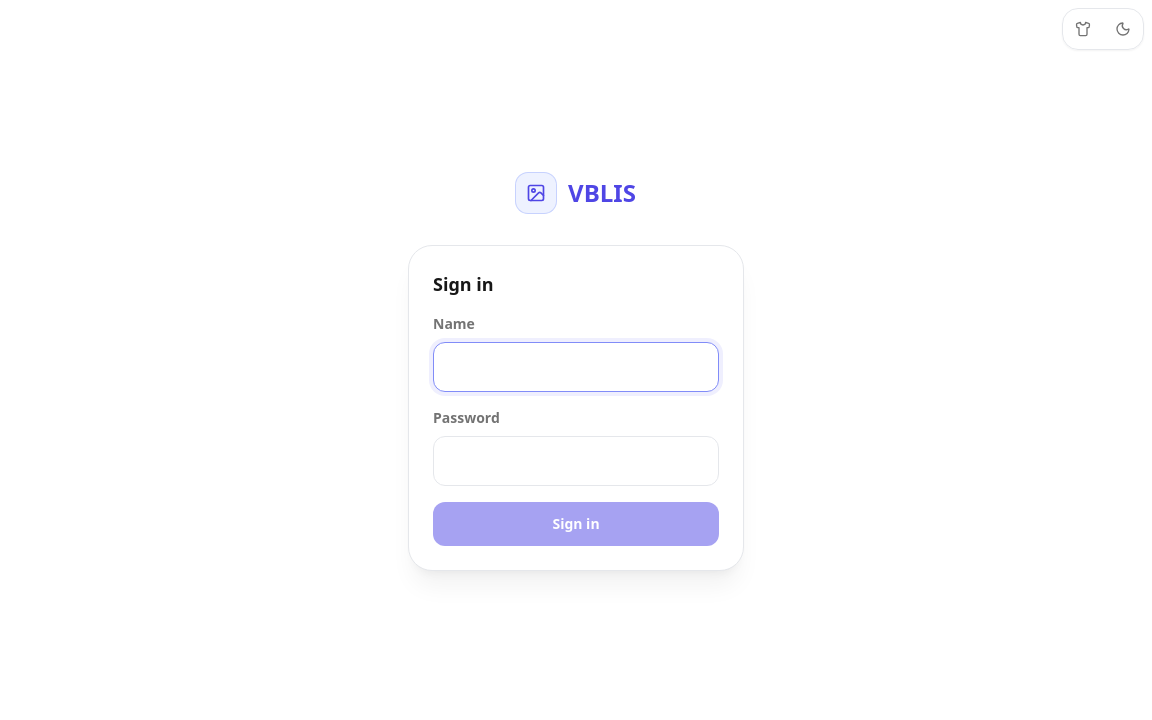
Test: the session screens › switch the page to dark and to the terminal style from the control
Later steps or results of the test are not shown.
Click the button named "Switch to Dark Mode" at (1123, 29), box [1103,9,1143,49]
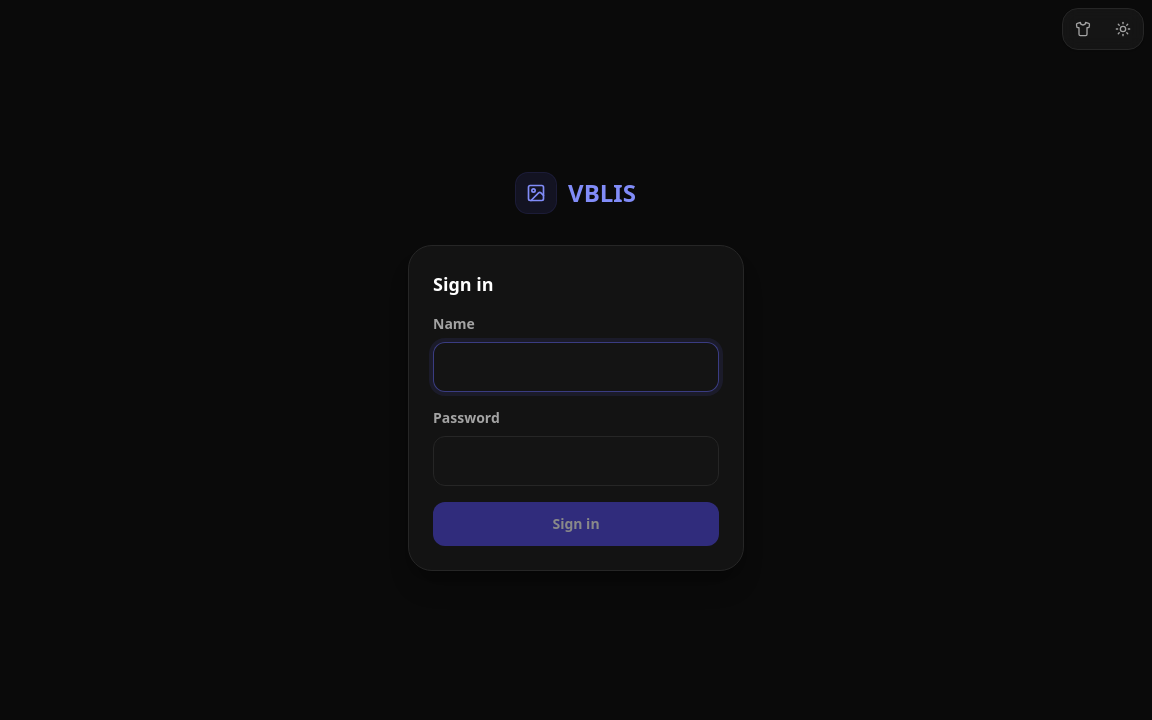
Expected: the button named "Switch to Light Mode" is shown, [1103,9,1143,49]
